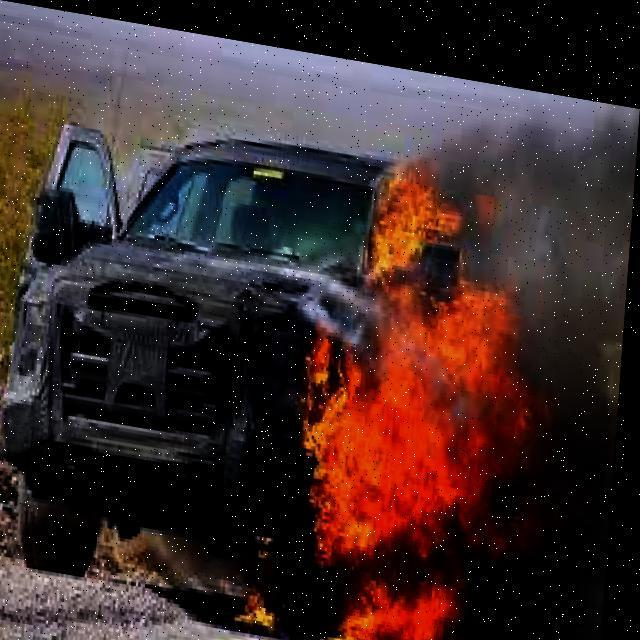Fire: (300, 132, 577, 639)
